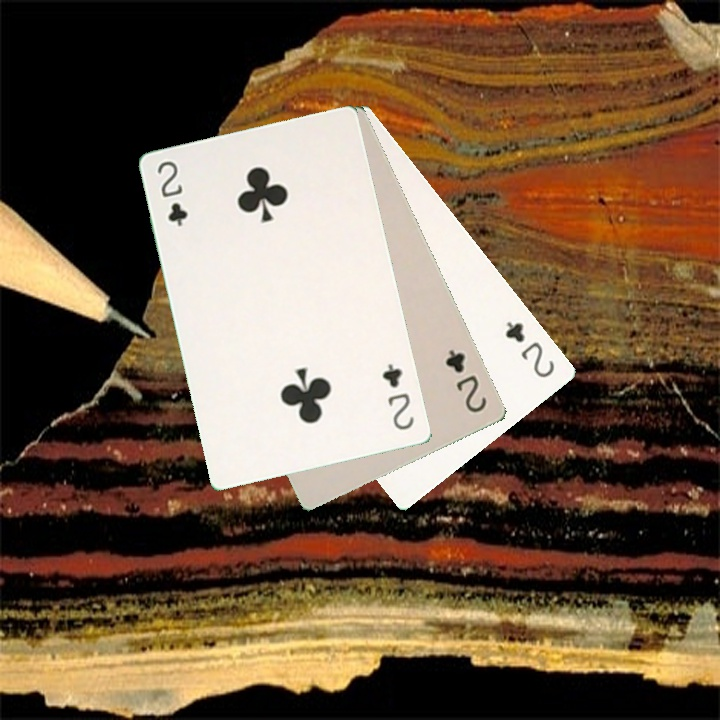2c: (501, 317, 558, 381), (441, 345, 490, 416), (378, 359, 417, 433), (153, 156, 191, 229)
